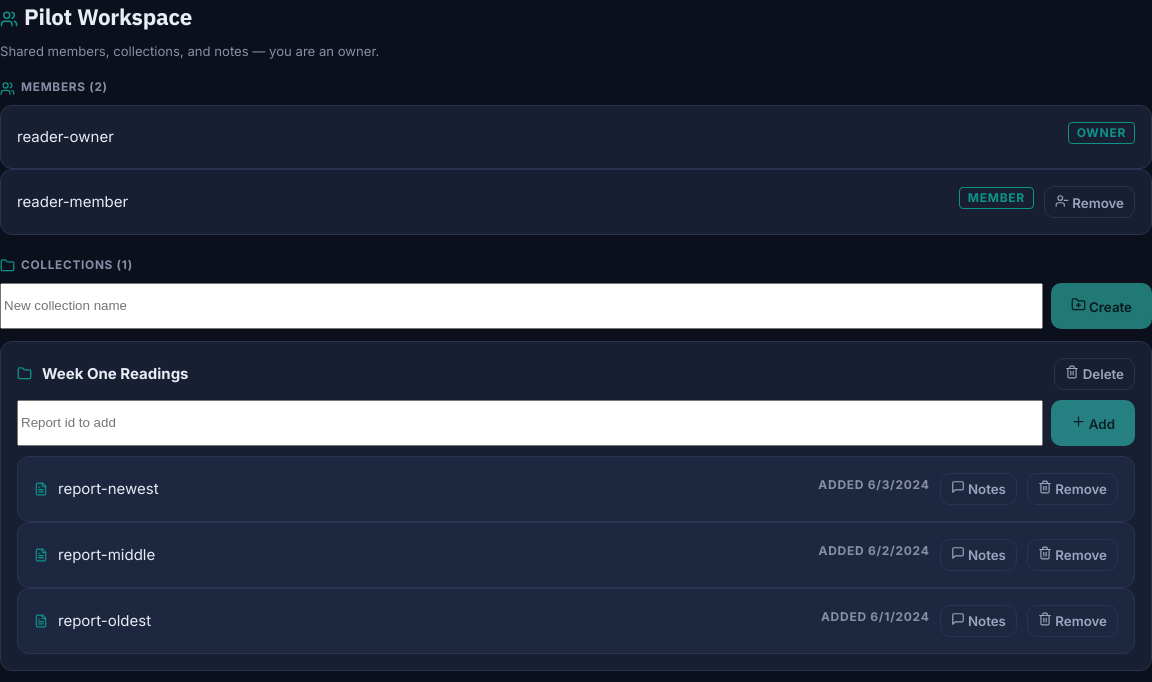
Test case: WorkspaceDetailView › renders annotations newest-first as attributed notes (Req 7.2, 10.6)
The width and height of the screenshot is (1152, 682).
Step 1. Click the button with aria-label "show notes for report report-newest" → x=978, y=489, box [940,473,1017,505]
(page scrolled)
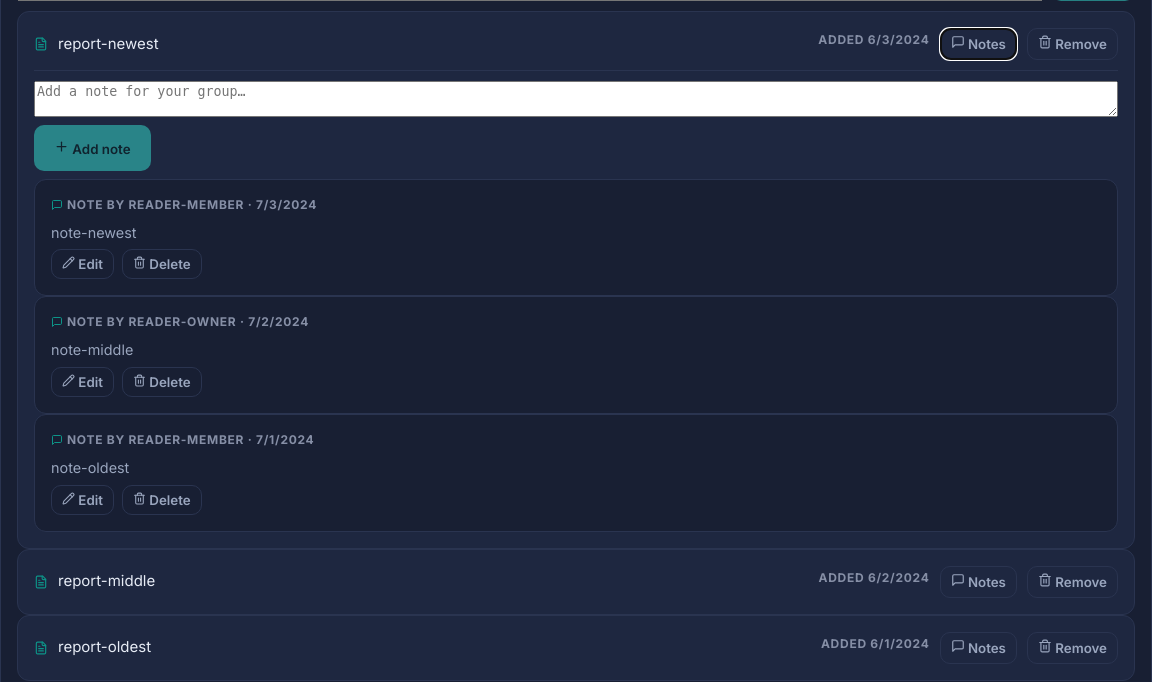
Check: the text "note-newest" is shown, box [51,224,137,241]
